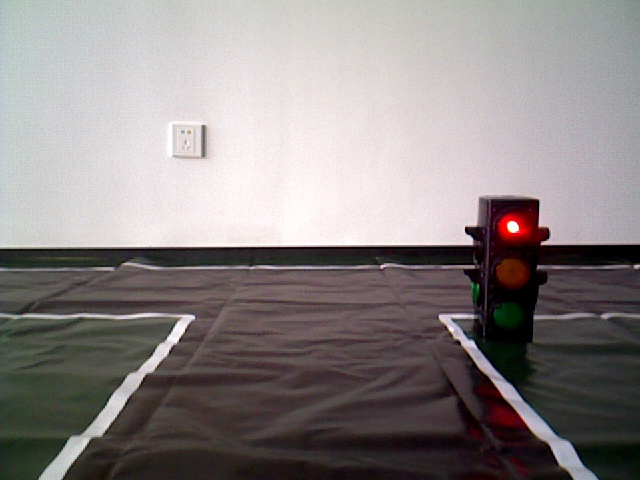red: (479, 195, 536, 333)
